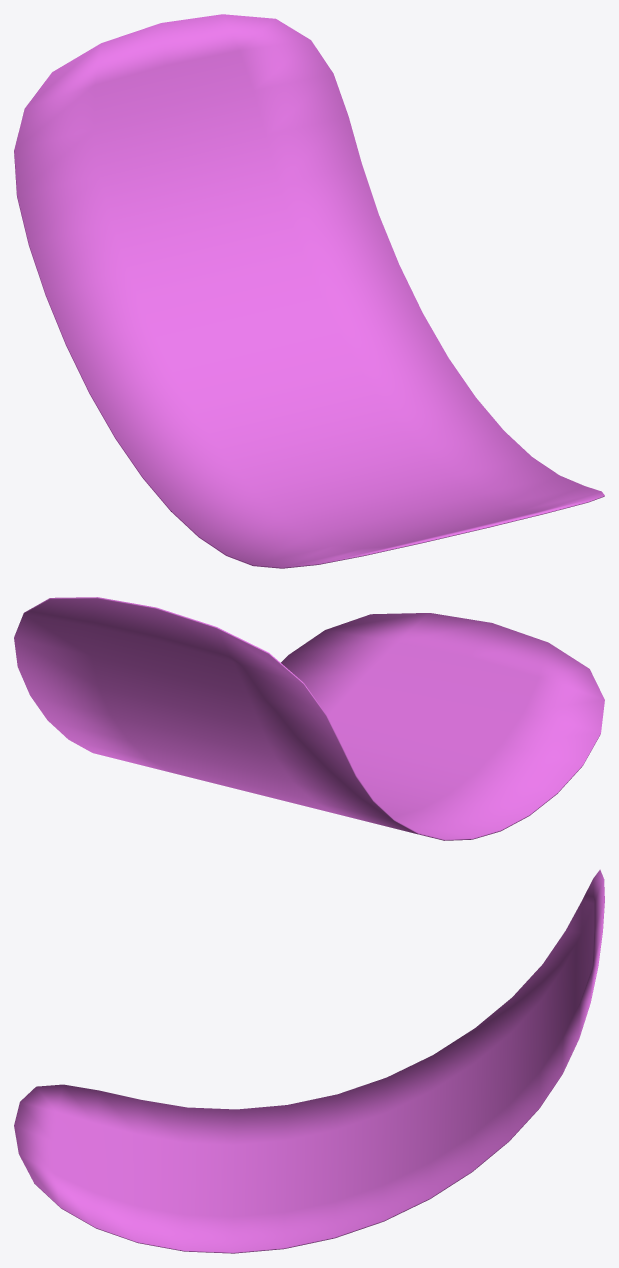
The model's file is Confetti_01.fbx.
The picture shows the model from 3 angles, top to bottom: view 1: azimuth 30°, elevation 25°; view 2: azimuth 150°, elevation 25°; view 3: azimuth 270°, elevation 25°; orthographic projection. The views are drawn at different scales.
Parts seen in each view (by area): view 1: Confetti_01; view 2: Confetti_01; view 3: Confetti_01.
Boxes of the visible parts, bbox=[...] form: Confetti_01: bbox=[14, 14, 604, 568]; Confetti_01: bbox=[14, 597, 604, 840]; Confetti_01: bbox=[14, 869, 604, 1253].
Size of the model in its own units: 10.57 by 9.7 by 18.28.
